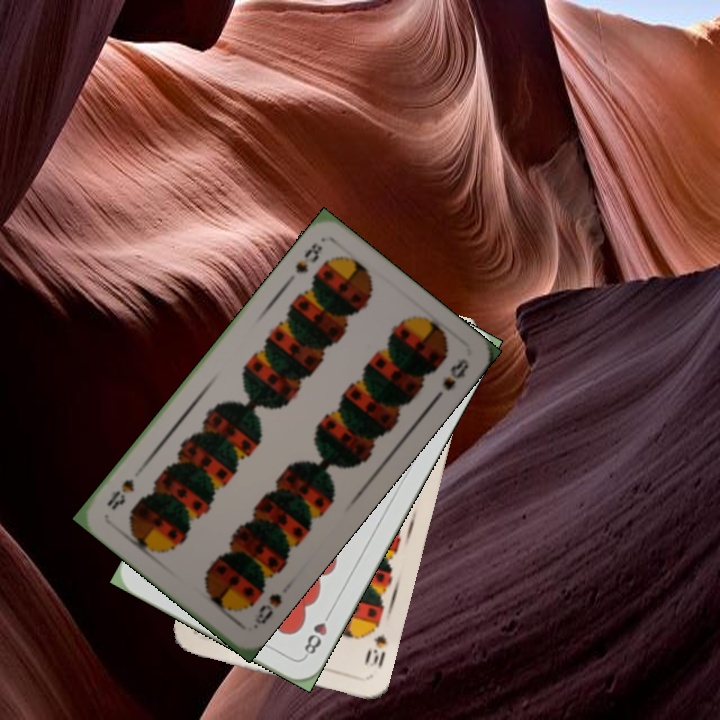H8: (300, 606, 335, 660)
S10: (360, 629, 390, 669)
S8: (249, 589, 285, 632), (291, 238, 325, 276)
